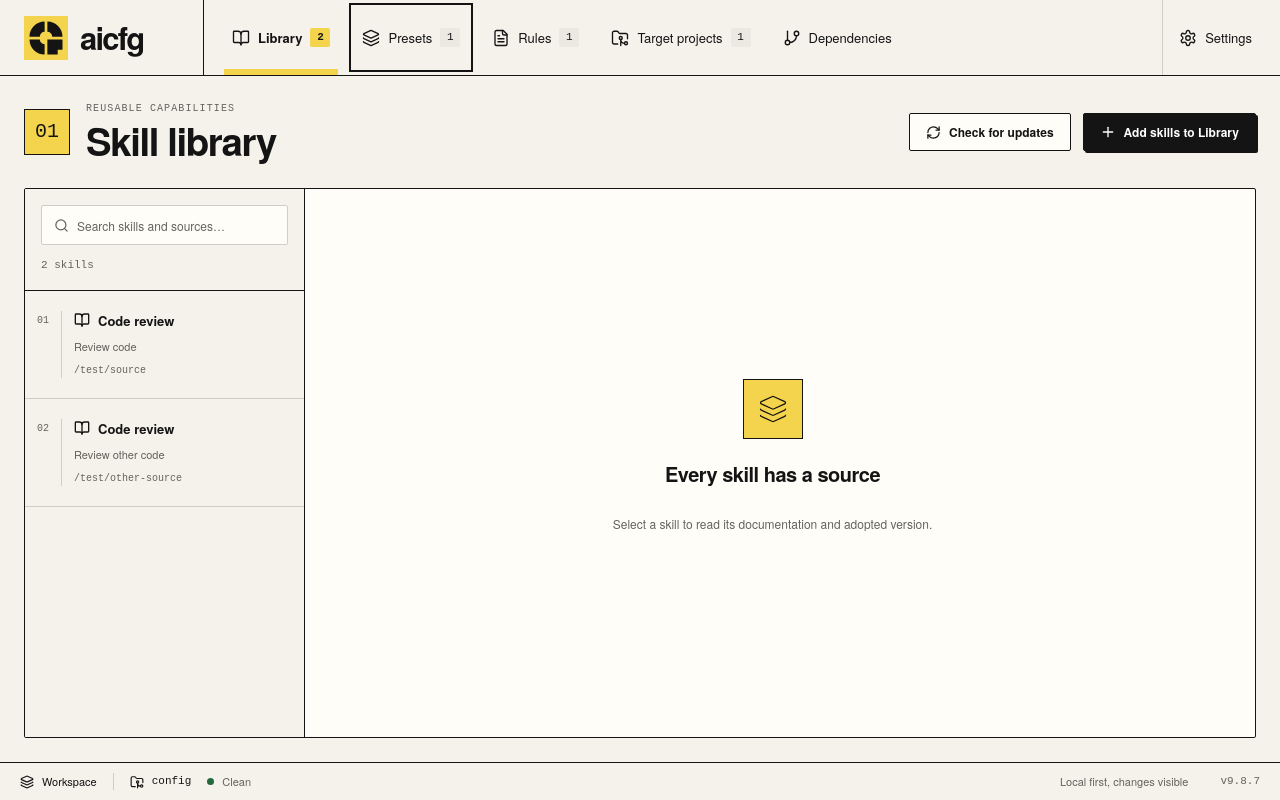
Test case: preset confirmation › cancels with Close without deleting
What coordinates should you click on to do the following:
click the button "Presets 1"
I would click on:
 (411, 38)
Its box is left=346, top=0, right=476, bottom=75.
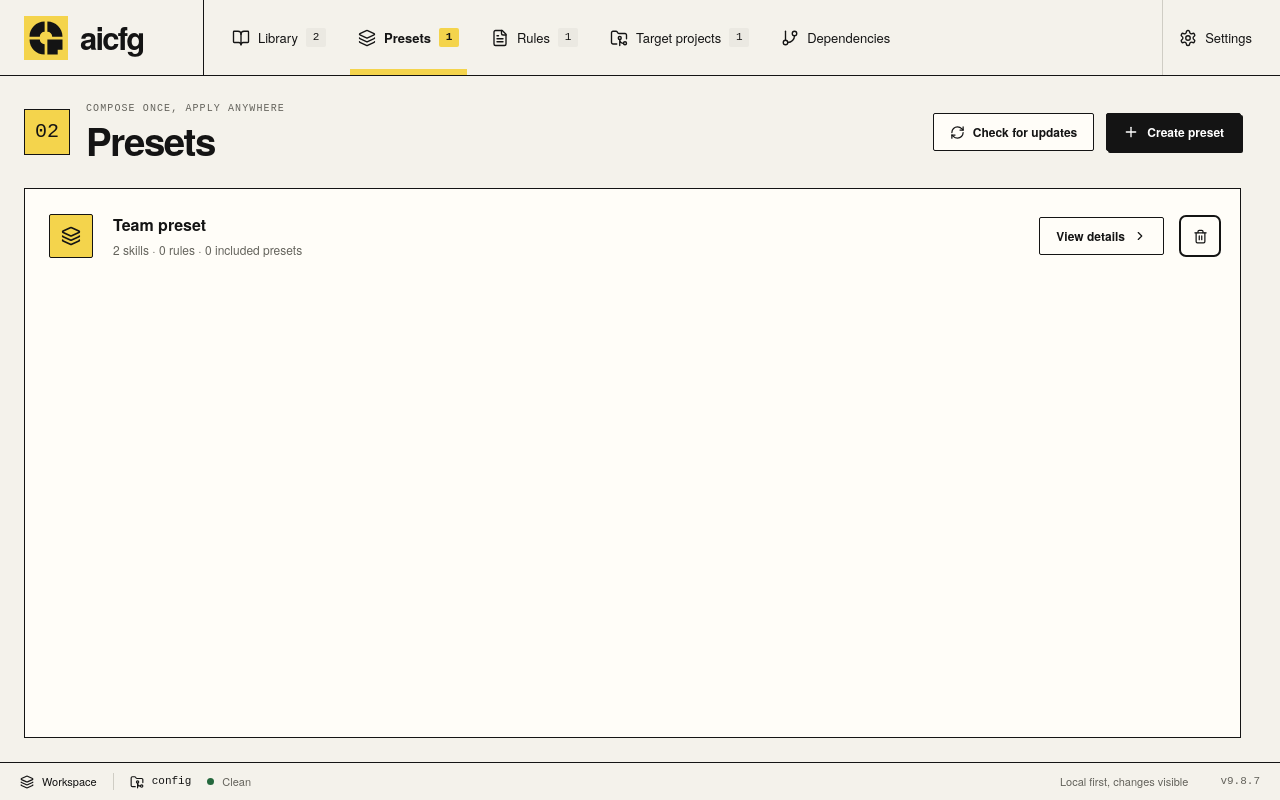
What coordinates should you click on to do the following:
click the button named "Delete Team preset"
I would click on:
 (1200, 236)
Its box is left=1184, top=220, right=1216, bottom=252.
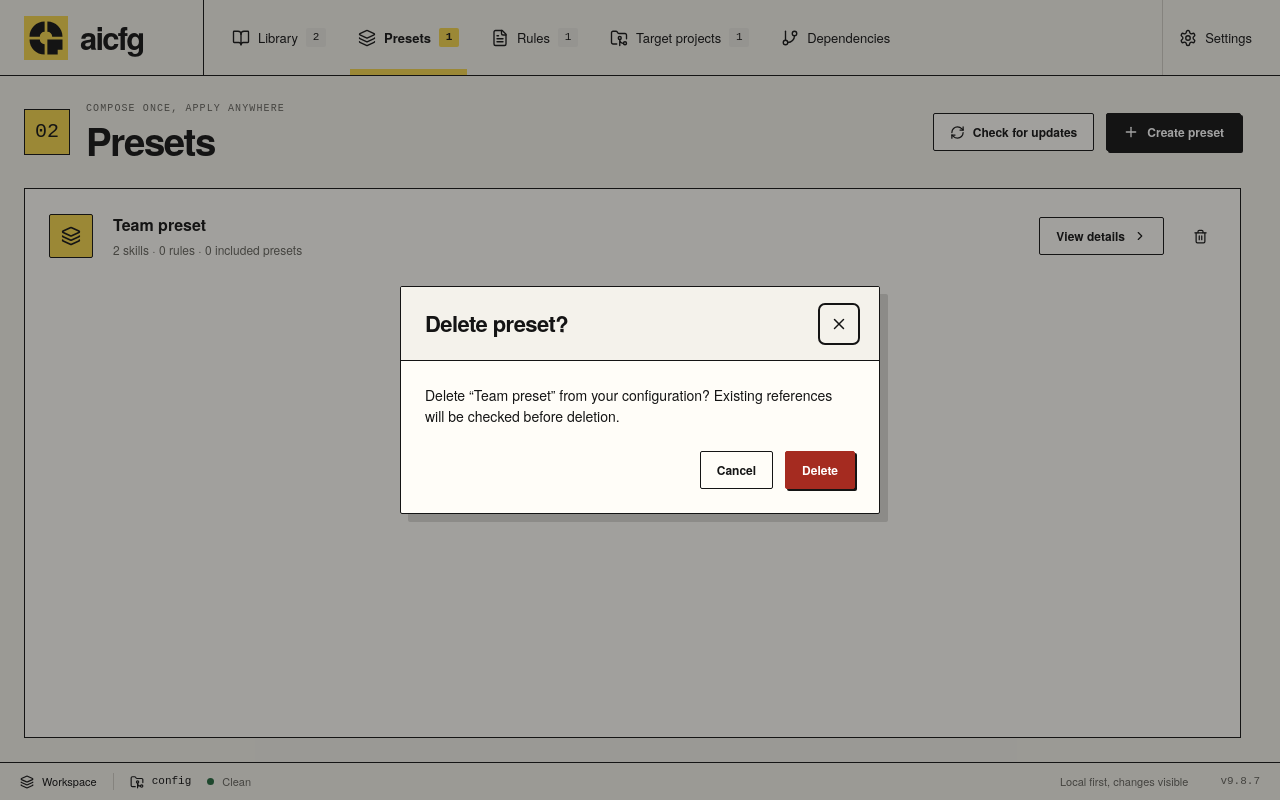
What coordinates should you click on to do the following:
click the button named "Close"
I would click on:
 (839, 324)
Its box is left=823, top=308, right=855, bottom=340.
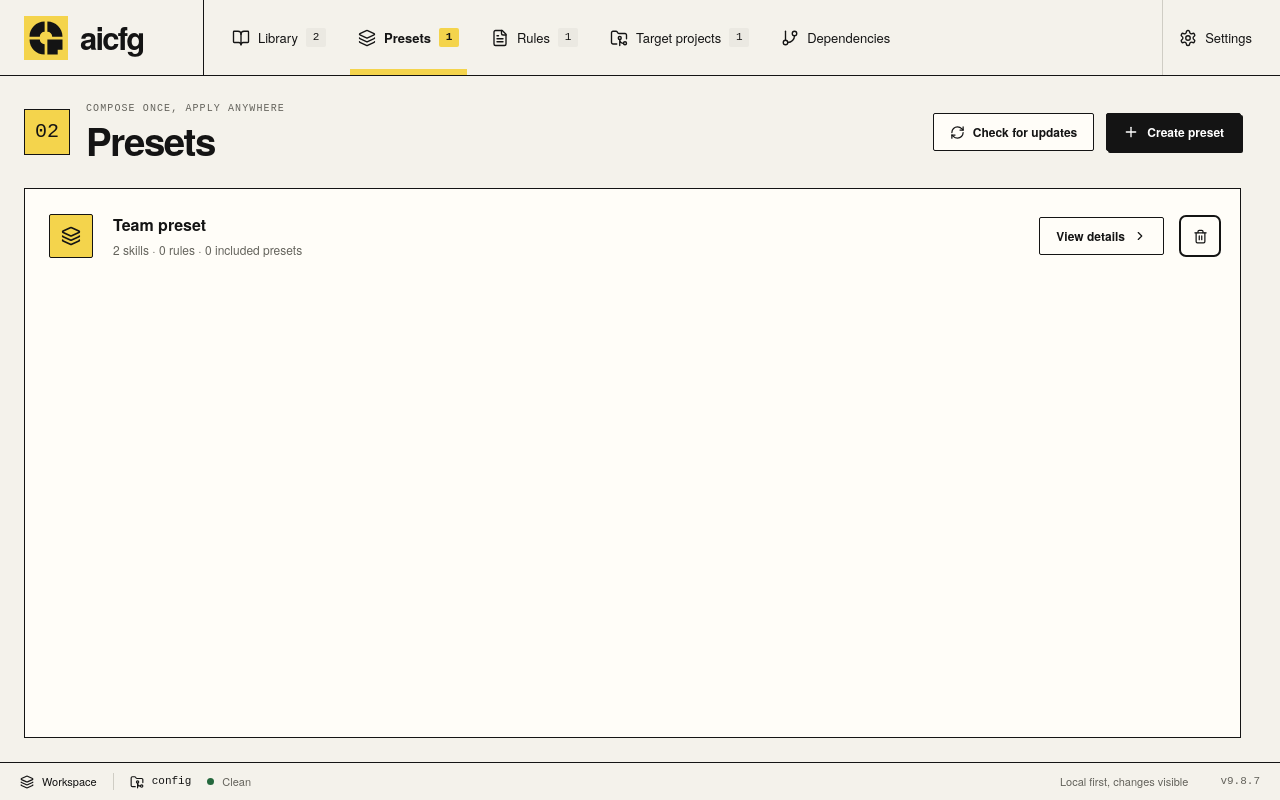
Result: the dialog is gone
